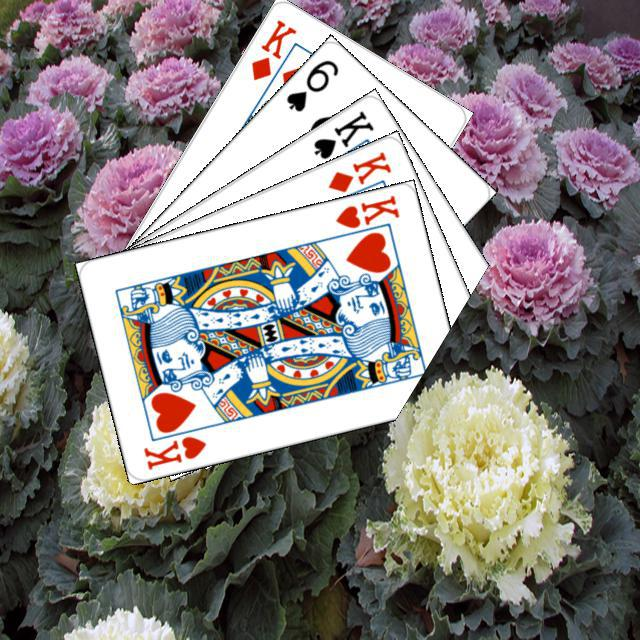6s: (280, 55, 341, 114)
Kd: (246, 14, 299, 82), (323, 146, 393, 195)
Kh: (328, 190, 401, 241), (138, 431, 208, 472)
Ks: (308, 106, 376, 162)
